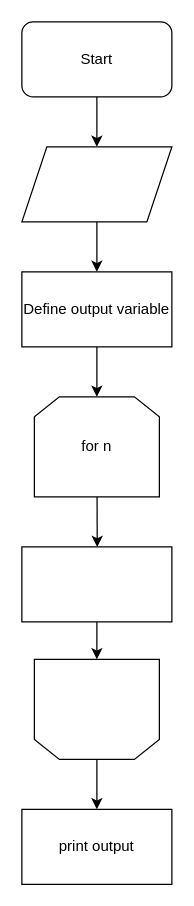
This 194x906 diagram has some shape labels left out. The centre of each missing label's shape, as x and y in pixels:
"Input int number Input int n" goes at point 96,184.
"output = output * number" goes at point 96,584.
